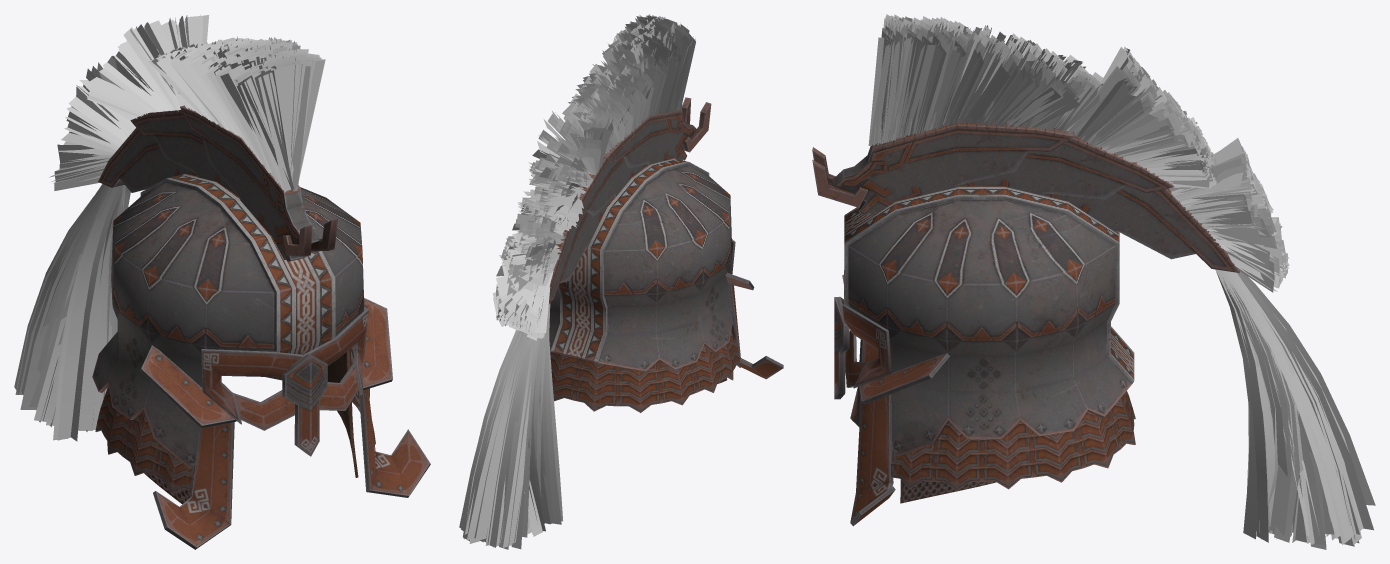
Rendered from sk_dwarf_dain_helmet_elite_a.fbx.
3 views of the same model, side by side, from view 1: azimuth 30°, elevation 25°; view 2: azimuth 150°, elevation 25°; view 3: azimuth 270°, elevation 25° (orthographic). The views are drawn at different scales.
Parts seen in each view (by area): view 1: sk_dwarf_dain_helmet_elite_a.0, sk_dwarf_dain_helmet_elite_a.1, sk_dwarf_dain_helmet_elite_a.plume; view 2: sk_dwarf_dain_helmet_elite_a.0, sk_dwarf_dain_helmet_elite_a.1, sk_dwarf_dain_helmet_elite_a.plume; view 3: sk_dwarf_dain_helmet_elite_a.0, sk_dwarf_dain_helmet_elite_a.1, sk_dwarf_dain_helmet_elite_a.plume.
Part boxes in pixels (x1,y1,x2,y2): sk_dwarf_dain_helmet_elite_a.0: (92,105,430,549); sk_dwarf_dain_helmet_elite_a.1: (49,15,325,192); sk_dwarf_dain_helmet_elite_a.plume: (14,184,130,441); sk_dwarf_dain_helmet_elite_a.0: (548,97,783,412); sk_dwarf_dain_helmet_elite_a.1: (492,14,695,344); sk_dwarf_dain_helmet_elite_a.plume: (459,303,562,549); sk_dwarf_dain_helmet_elite_a.0: (812,122,1239,526); sk_dwarf_dain_helmet_elite_a.1: (868,14,1289,292); sk_dwarf_dain_helmet_elite_a.plume: (1215,269,1375,549).
Size of the model in its own units: 0.3165 by 0.5749 by 0.5771.
